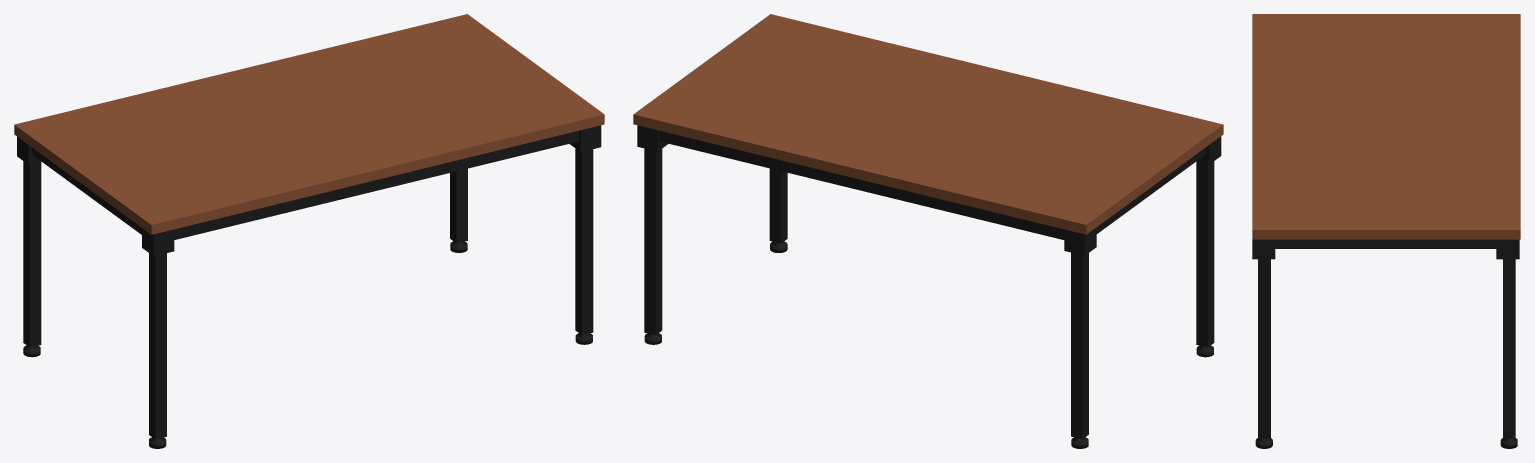
Rendered from mesa1.fbx.
3 renders of one model, left to right at view 1: azimuth 30°, elevation 25°; view 2: azimuth 150°, elevation 25°; view 3: azimuth 270°, elevation 25°, orthographic. The views are drawn at different scales.
Visible parts, largest first — view 1: Cube.289; view 2: Cube.289; view 3: Cube.289.
Part boxes in pixels (x1,y1,x2,y2): Cube.289: (14,14,604,448); Cube.289: (633,14,1223,448); Cube.289: (1252,14,1520,448).
Bounding box in the file's own units: 184 × 88.28 × 96.55.
